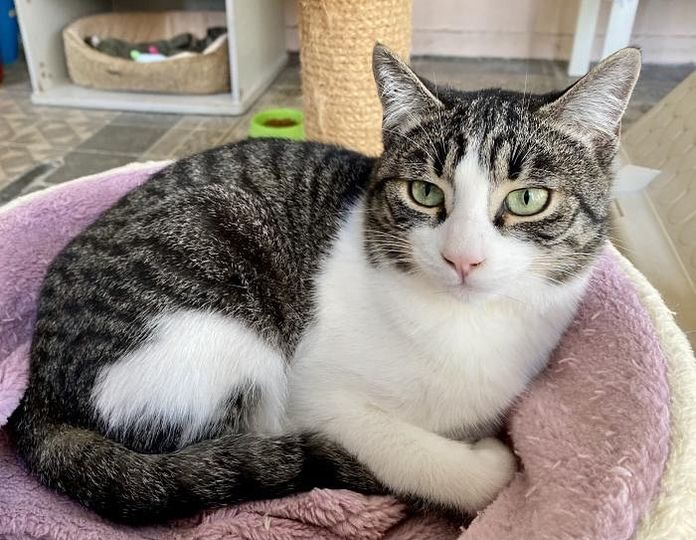cat: (8, 31, 660, 520)
